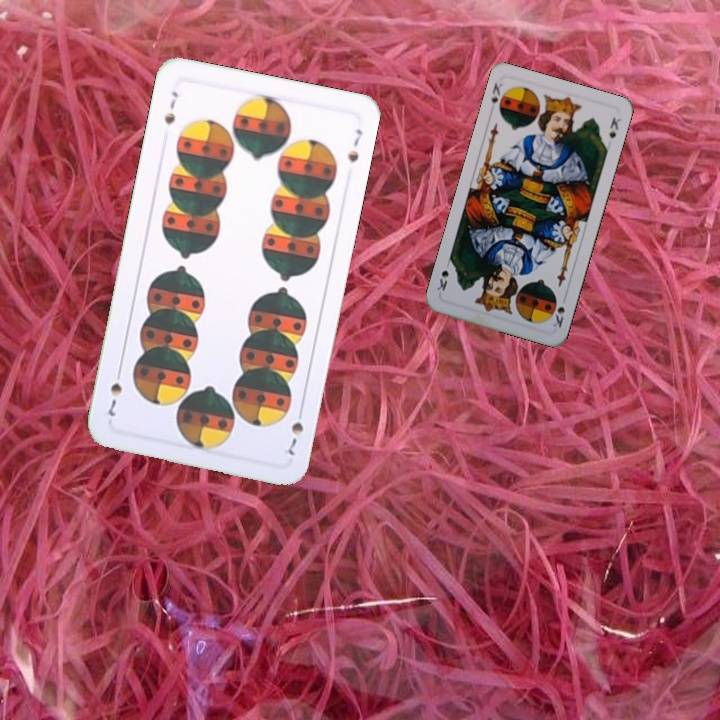S7: (283, 402, 306, 458), (160, 87, 181, 127)
SK: (548, 296, 568, 330), (487, 78, 505, 106)
